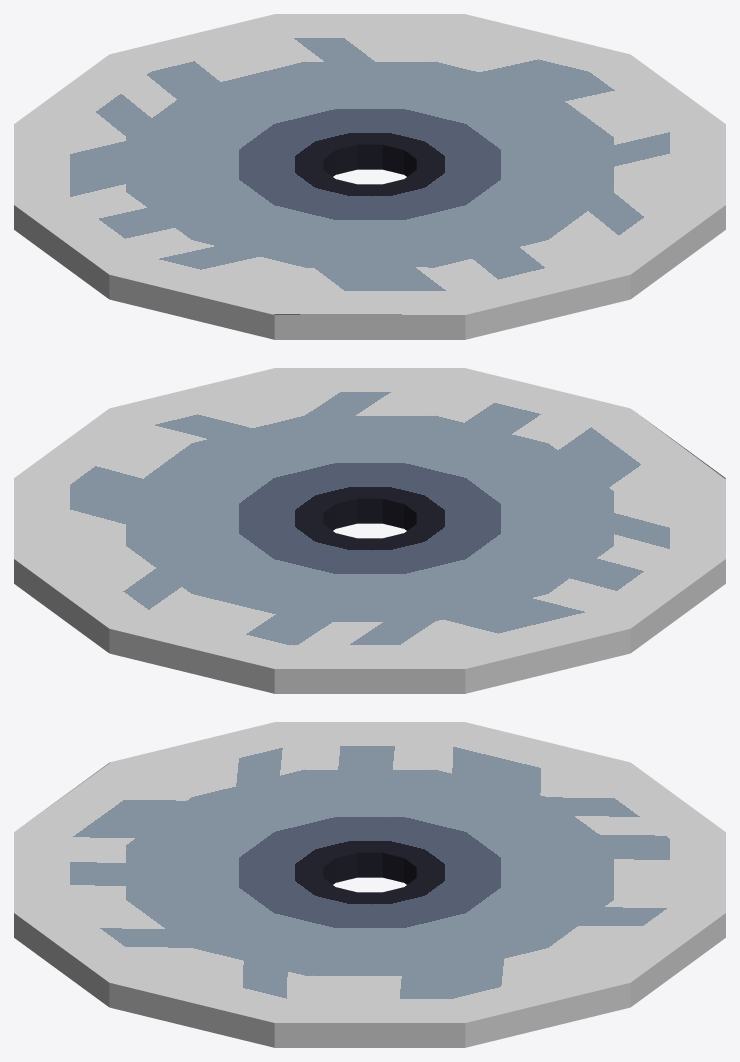
Rendered from disc_climbing_game.gltf.
3 views of the same model, one above another, from view 1: azimuth 30°, elevation 25°; view 2: azimuth 150°, elevation 25°; view 3: azimuth 270°, elevation 25° (orthographic).
Visible parts, largest first — view 1: Disc; view 2: Disc; view 3: Disc.
Part boxes in pixels (x1,y1,x2,y2): Disc: (14, 14, 725, 339); Disc: (14, 368, 725, 693); Disc: (14, 722, 725, 1047).
Size of the model in its own units: 0.1625 by 0.00625 by 0.1625.
Materials: 1 (1 with a texture image).
